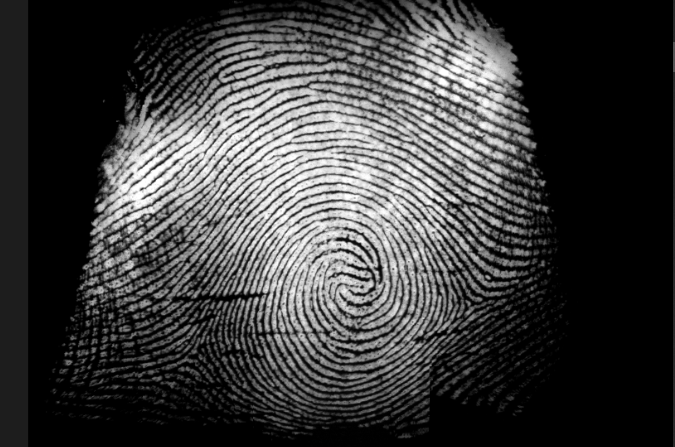nucelo: (332, 246, 385, 302)
verticilo: (448, 275, 486, 325), (168, 334, 205, 376)
